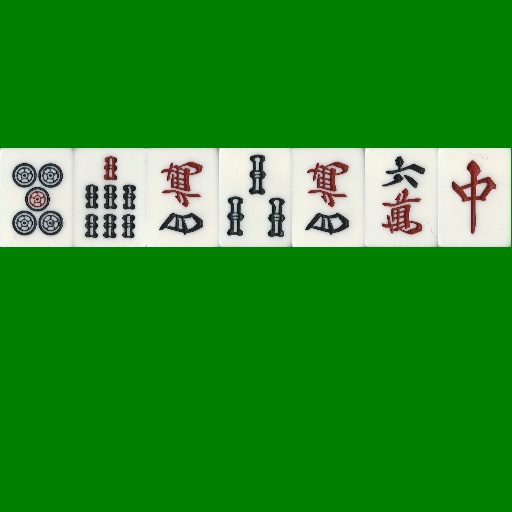3s: (219, 148, 292, 247)
4m: (146, 148, 219, 247), (292, 148, 365, 247)
5p: (0, 148, 73, 247)
6m: (365, 148, 438, 247)
7s: (73, 148, 146, 247)
tyun: (438, 148, 511, 247)
